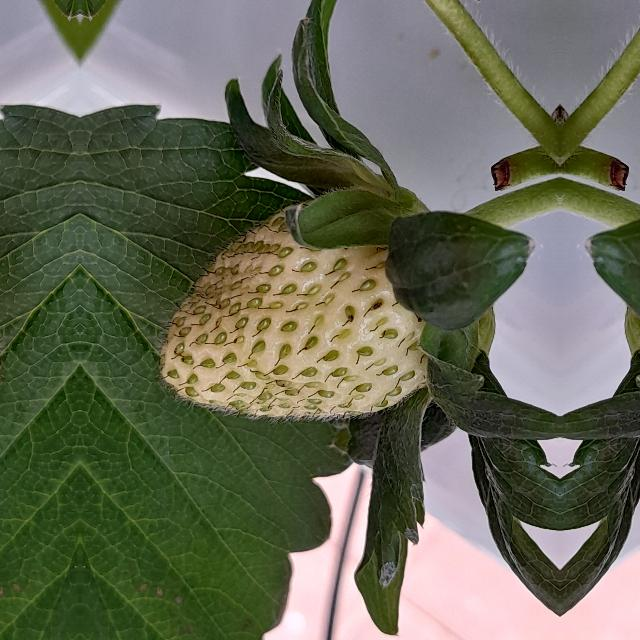Health_25: (152, 183, 436, 427)
